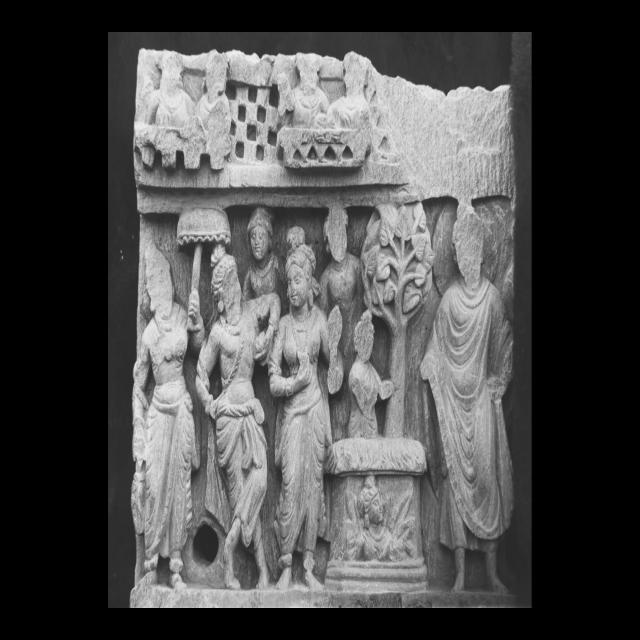buddha-standing: (421, 205, 514, 592)
